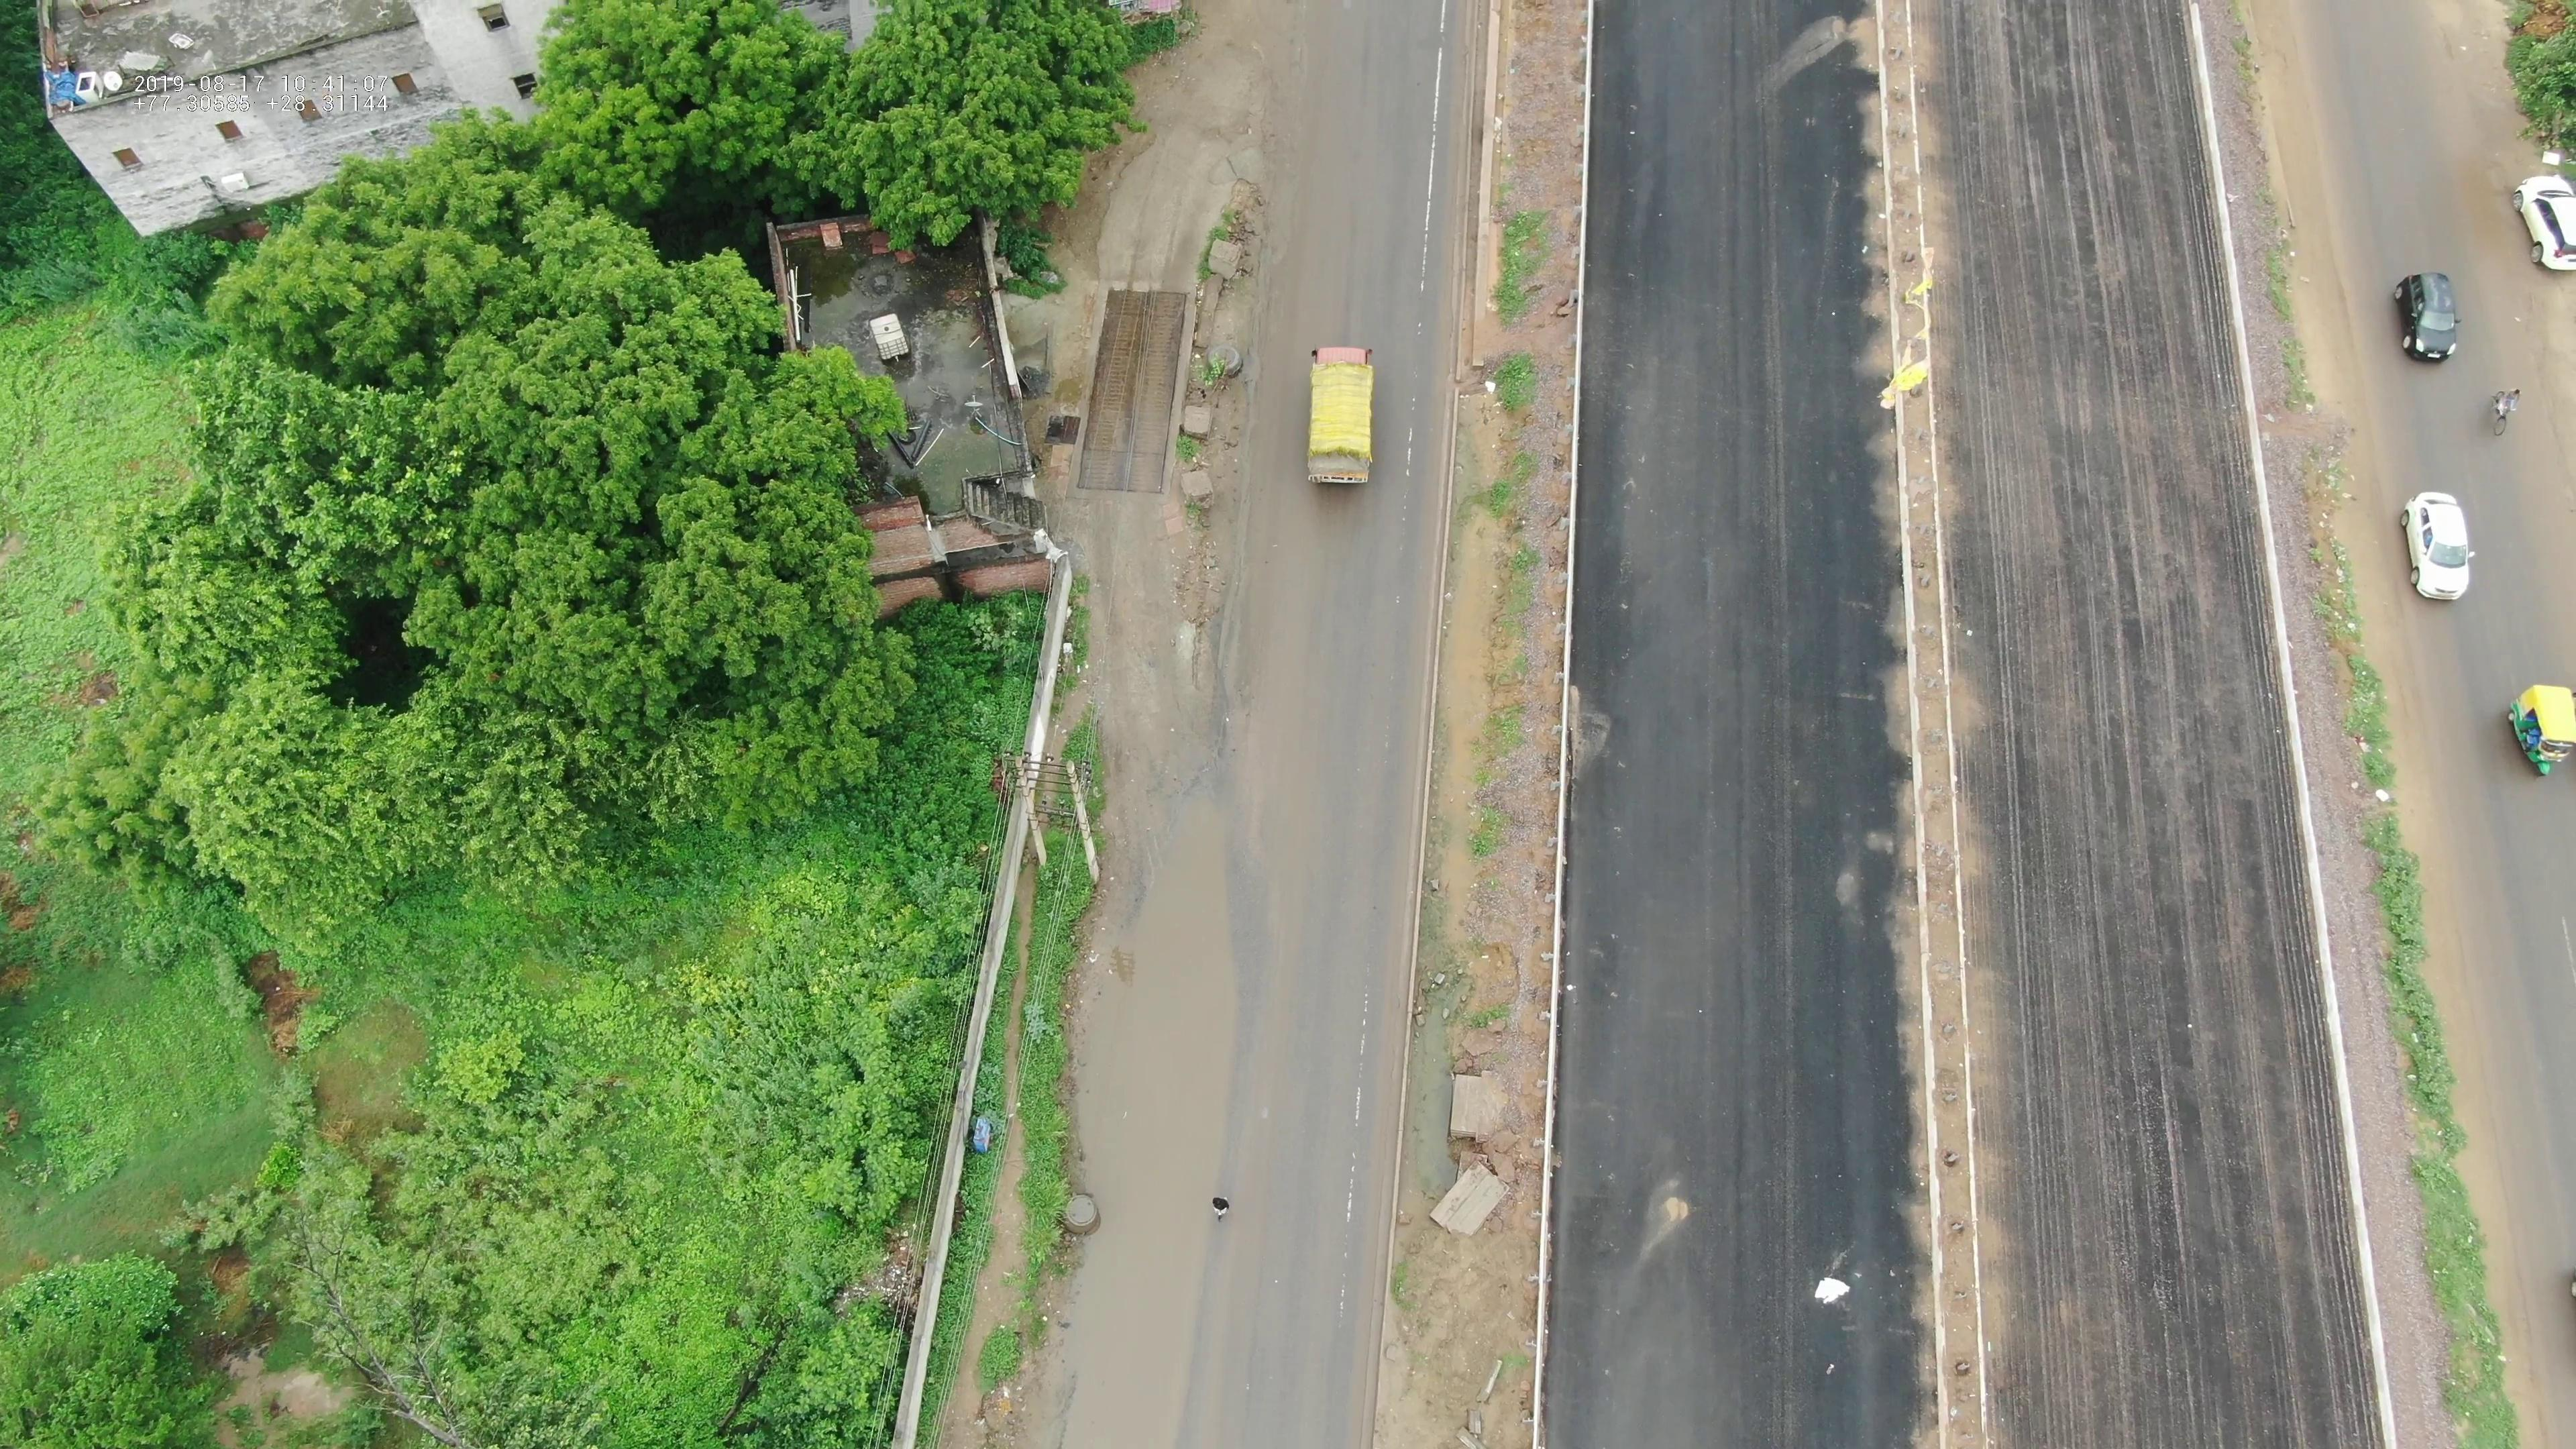Waterlogging: (1063, 936, 1200, 1399)
